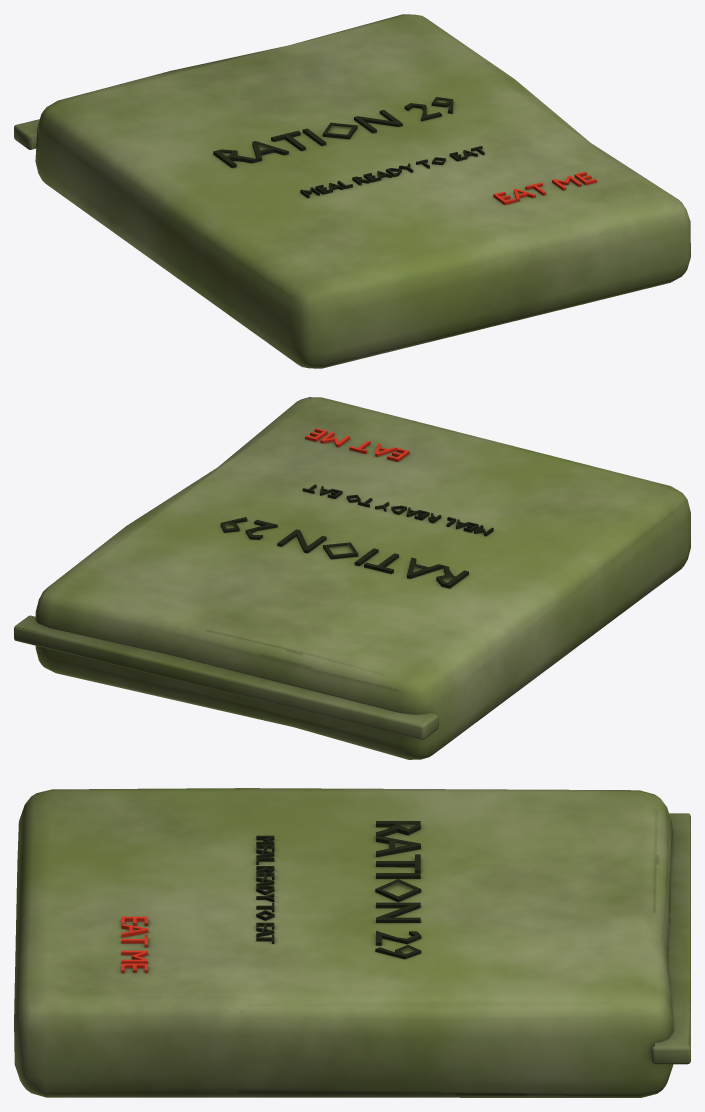
Rendered from ration_pack.fbx.
3 views of the same model, one above another, from view 1: azimuth 30°, elevation 25°; view 2: azimuth 150°, elevation 25°; view 3: azimuth 270°, elevation 25° (orthographic). The views are drawn at different scales.
Visible parts, largest first — view 1: Body; view 2: Body; view 3: Body.
Part boxes in pixels (bbox=[...]): Body: bbox=[14, 14, 690, 368]; Body: bbox=[14, 397, 690, 759]; Body: bbox=[14, 788, 690, 1097].
Size of the model in its own units: 0.85 by 0.1786 by 1.03.
1 material, 1 textured.
